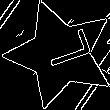L_W: (30, 31, 90, 78)
